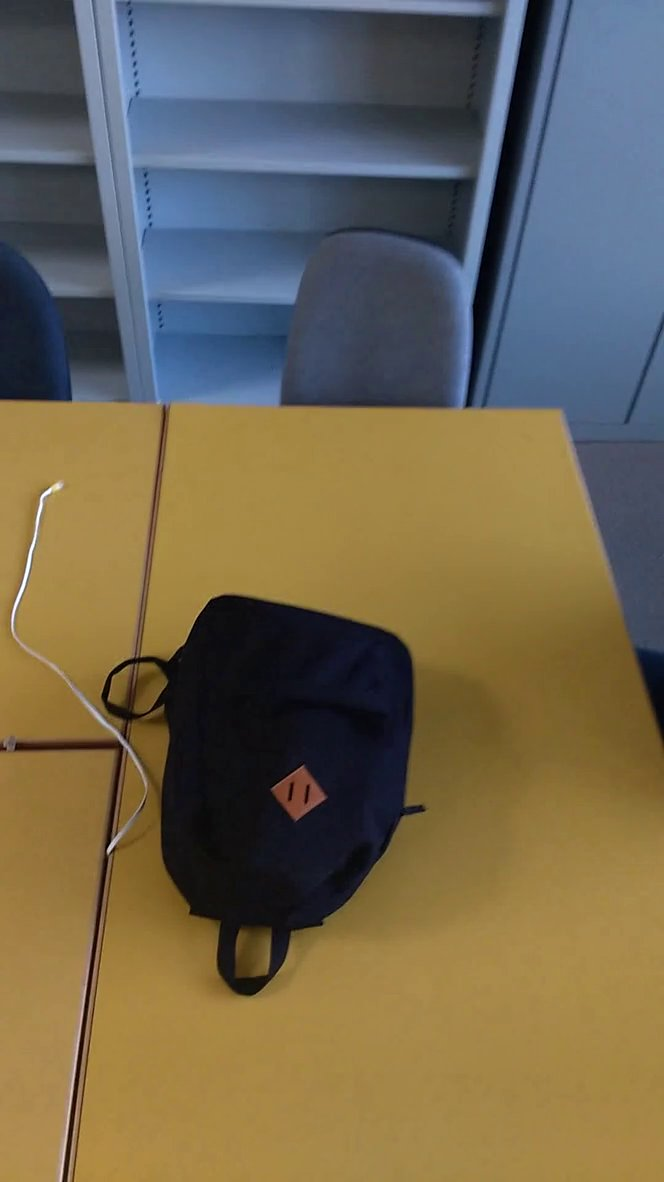bag: (97, 584, 441, 1003)
chair: (263, 214, 493, 440)
